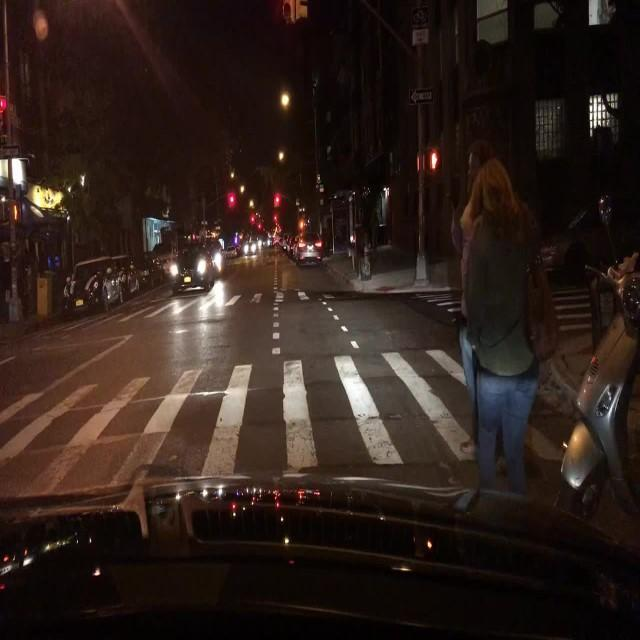normal: (159, 226, 230, 302)
